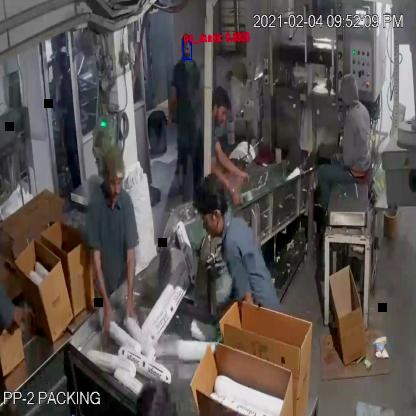no_glove: (86, 238, 121, 353), (204, 150, 246, 213), (117, 234, 141, 331), (211, 133, 251, 185), (0, 296, 33, 345)
